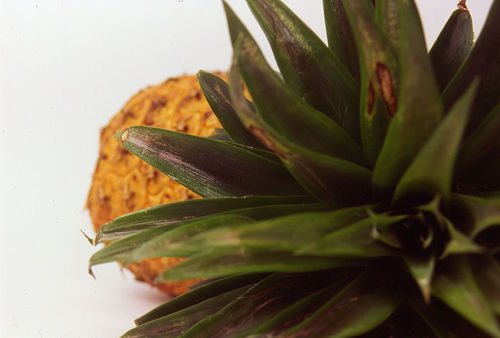pineapple: (79, 0, 498, 336)
